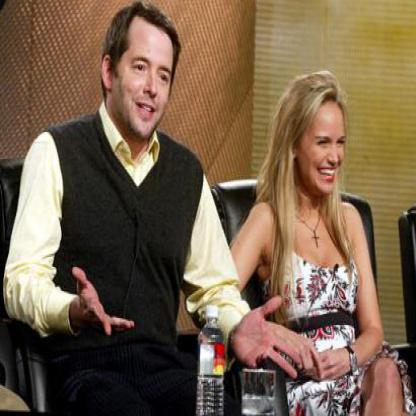face: (113, 8, 179, 144), (298, 91, 350, 196)
